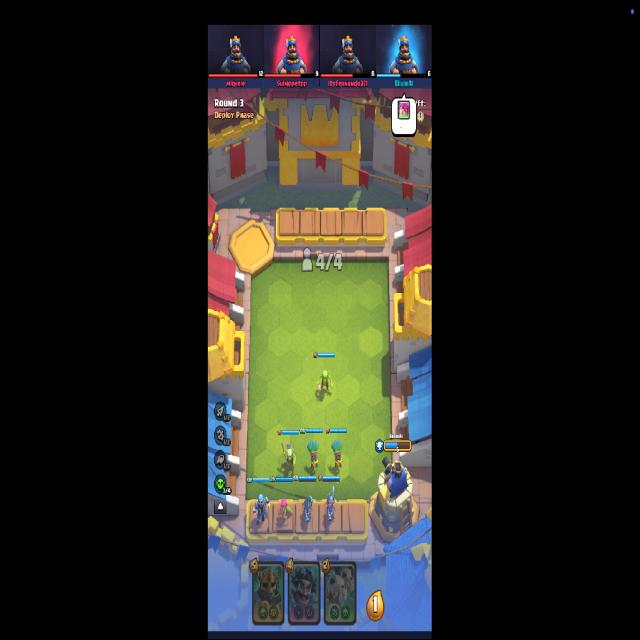archer: (278, 498, 294, 527)
card_e_wiz: (288, 561, 320, 625)
card_skeleton_dragon: (323, 560, 357, 626)
dart_goblin: (306, 440, 321, 472), (330, 438, 344, 472)
goblin: (316, 369, 333, 398)
musketeer: (325, 485, 336, 521), (302, 497, 313, 523)
skeleton_king: (252, 560, 284, 624)
spear_goblin: (281, 441, 297, 471)
wizard: (252, 493, 271, 528)
